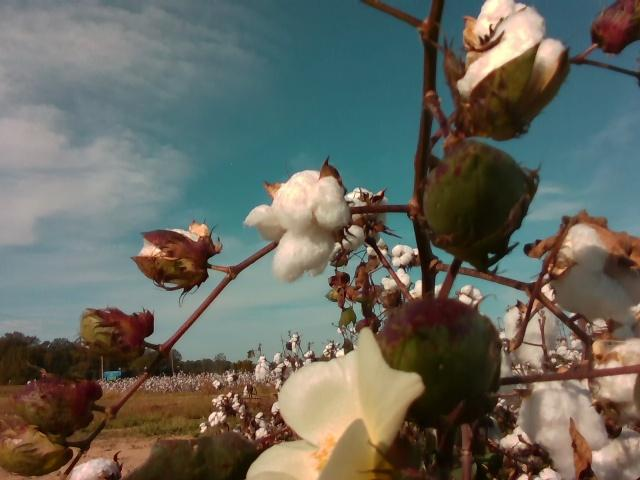cotton_ready: (246, 326, 426, 480), (442, 0, 566, 139), (244, 170, 350, 286), (521, 380, 605, 480), (554, 225, 640, 319), (329, 187, 390, 256), (508, 304, 561, 367), (592, 338, 640, 398), (138, 228, 204, 269), (587, 436, 640, 480), (66, 460, 121, 480)
